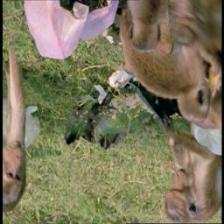monkey: (155, 160, 202, 220), (2, 126, 25, 213)
